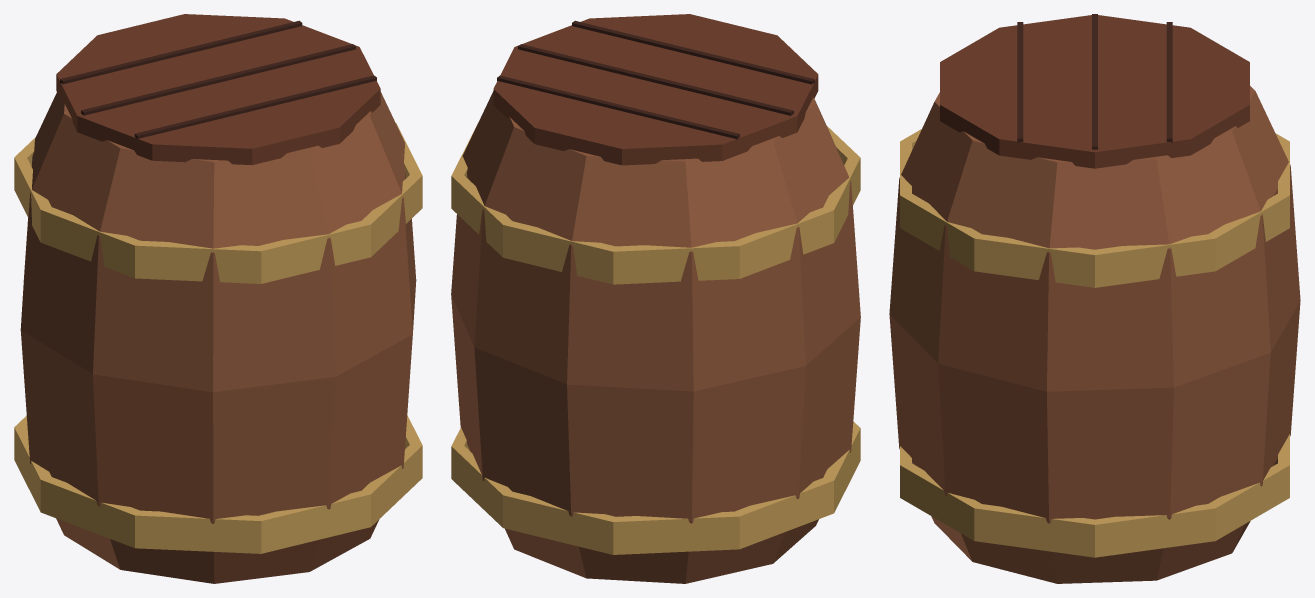
The model's file is barrel.glb.
3 renders of one model, left to right at view 1: azimuth 30°, elevation 25°; view 2: azimuth 150°, elevation 25°; view 3: azimuth 270°, elevation 25°, orthographic.
Visible parts, largest first — view 1: Staves, Lid, Hoop, Hoop_001, Lid_joint_001, Lid_joint, Lid_joint_002; view 2: Staves, Lid, Hoop, Hoop_001, Lid_joint_001, Lid_joint, Lid_joint_002; view 3: Staves, Lid, Hoop_001, Hoop, Lid_joint, Lid_joint_002, Lid_joint_001.
Part boxes in pixels (<box>): Staves: <box>20,92,416,583</box>; Lid: <box>56,14,380,165</box>; Hoop: <box>14,415,422,553</box>; Hoop_001: <box>14,123,422,283</box>; Lid_joint_001: <box>81,44,355,115</box>; Lid_joint: <box>134,75,376,139</box>; Lid_joint_002: <box>60,20,302,84</box>; Staves: <box>451,91,860,583</box>; Lid: <box>493,14,818,165</box>; Hoop: <box>451,421,860,554</box>; Hoop_001: <box>451,124,860,284</box>; Lid_joint_001: <box>518,44,793,115</box>; Lid_joint: <box>572,20,814,84</box>; Lid_joint_002: <box>497,75,739,139</box>; Staves: <box>889,86,1300,583</box>; Lid: <box>940,15,1249,168</box>; Hoop_001: <box>900,129,1289,287</box>; Hoop: <box>900,434,1289,557</box>; Lid_joint: <box>1017,22,1023,142</box>; Lid_joint_002: <box>1166,22,1172,142</box>; Lid_joint_001: <box>1092,14,1097,149</box>.
Size of the model in its own units: 0.7942 by 0.934 by 0.7955.
